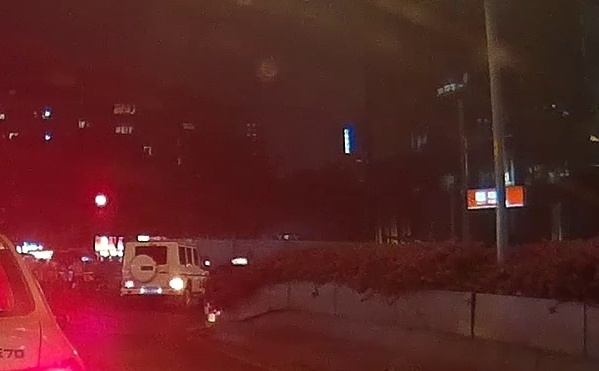L_light: (124, 280, 135, 288)
R_light: (169, 277, 183, 290)
T_light: (147, 246, 156, 247)
night-right: (120, 242, 184, 306)
